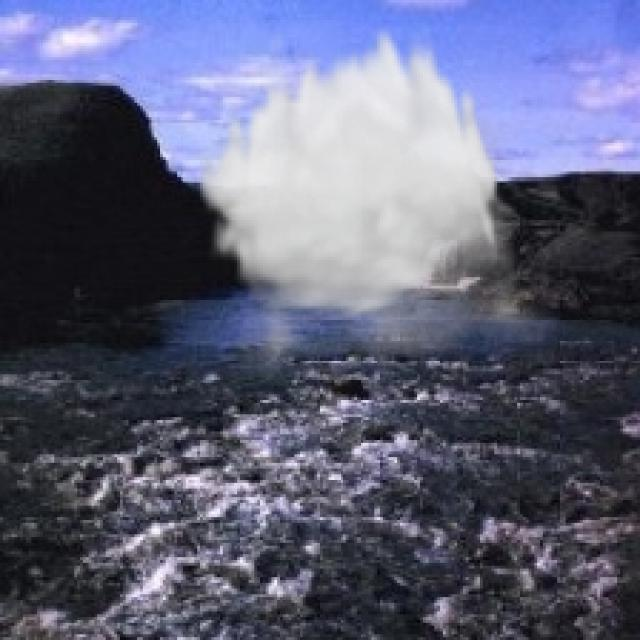Smoke: (194, 20, 566, 389)
